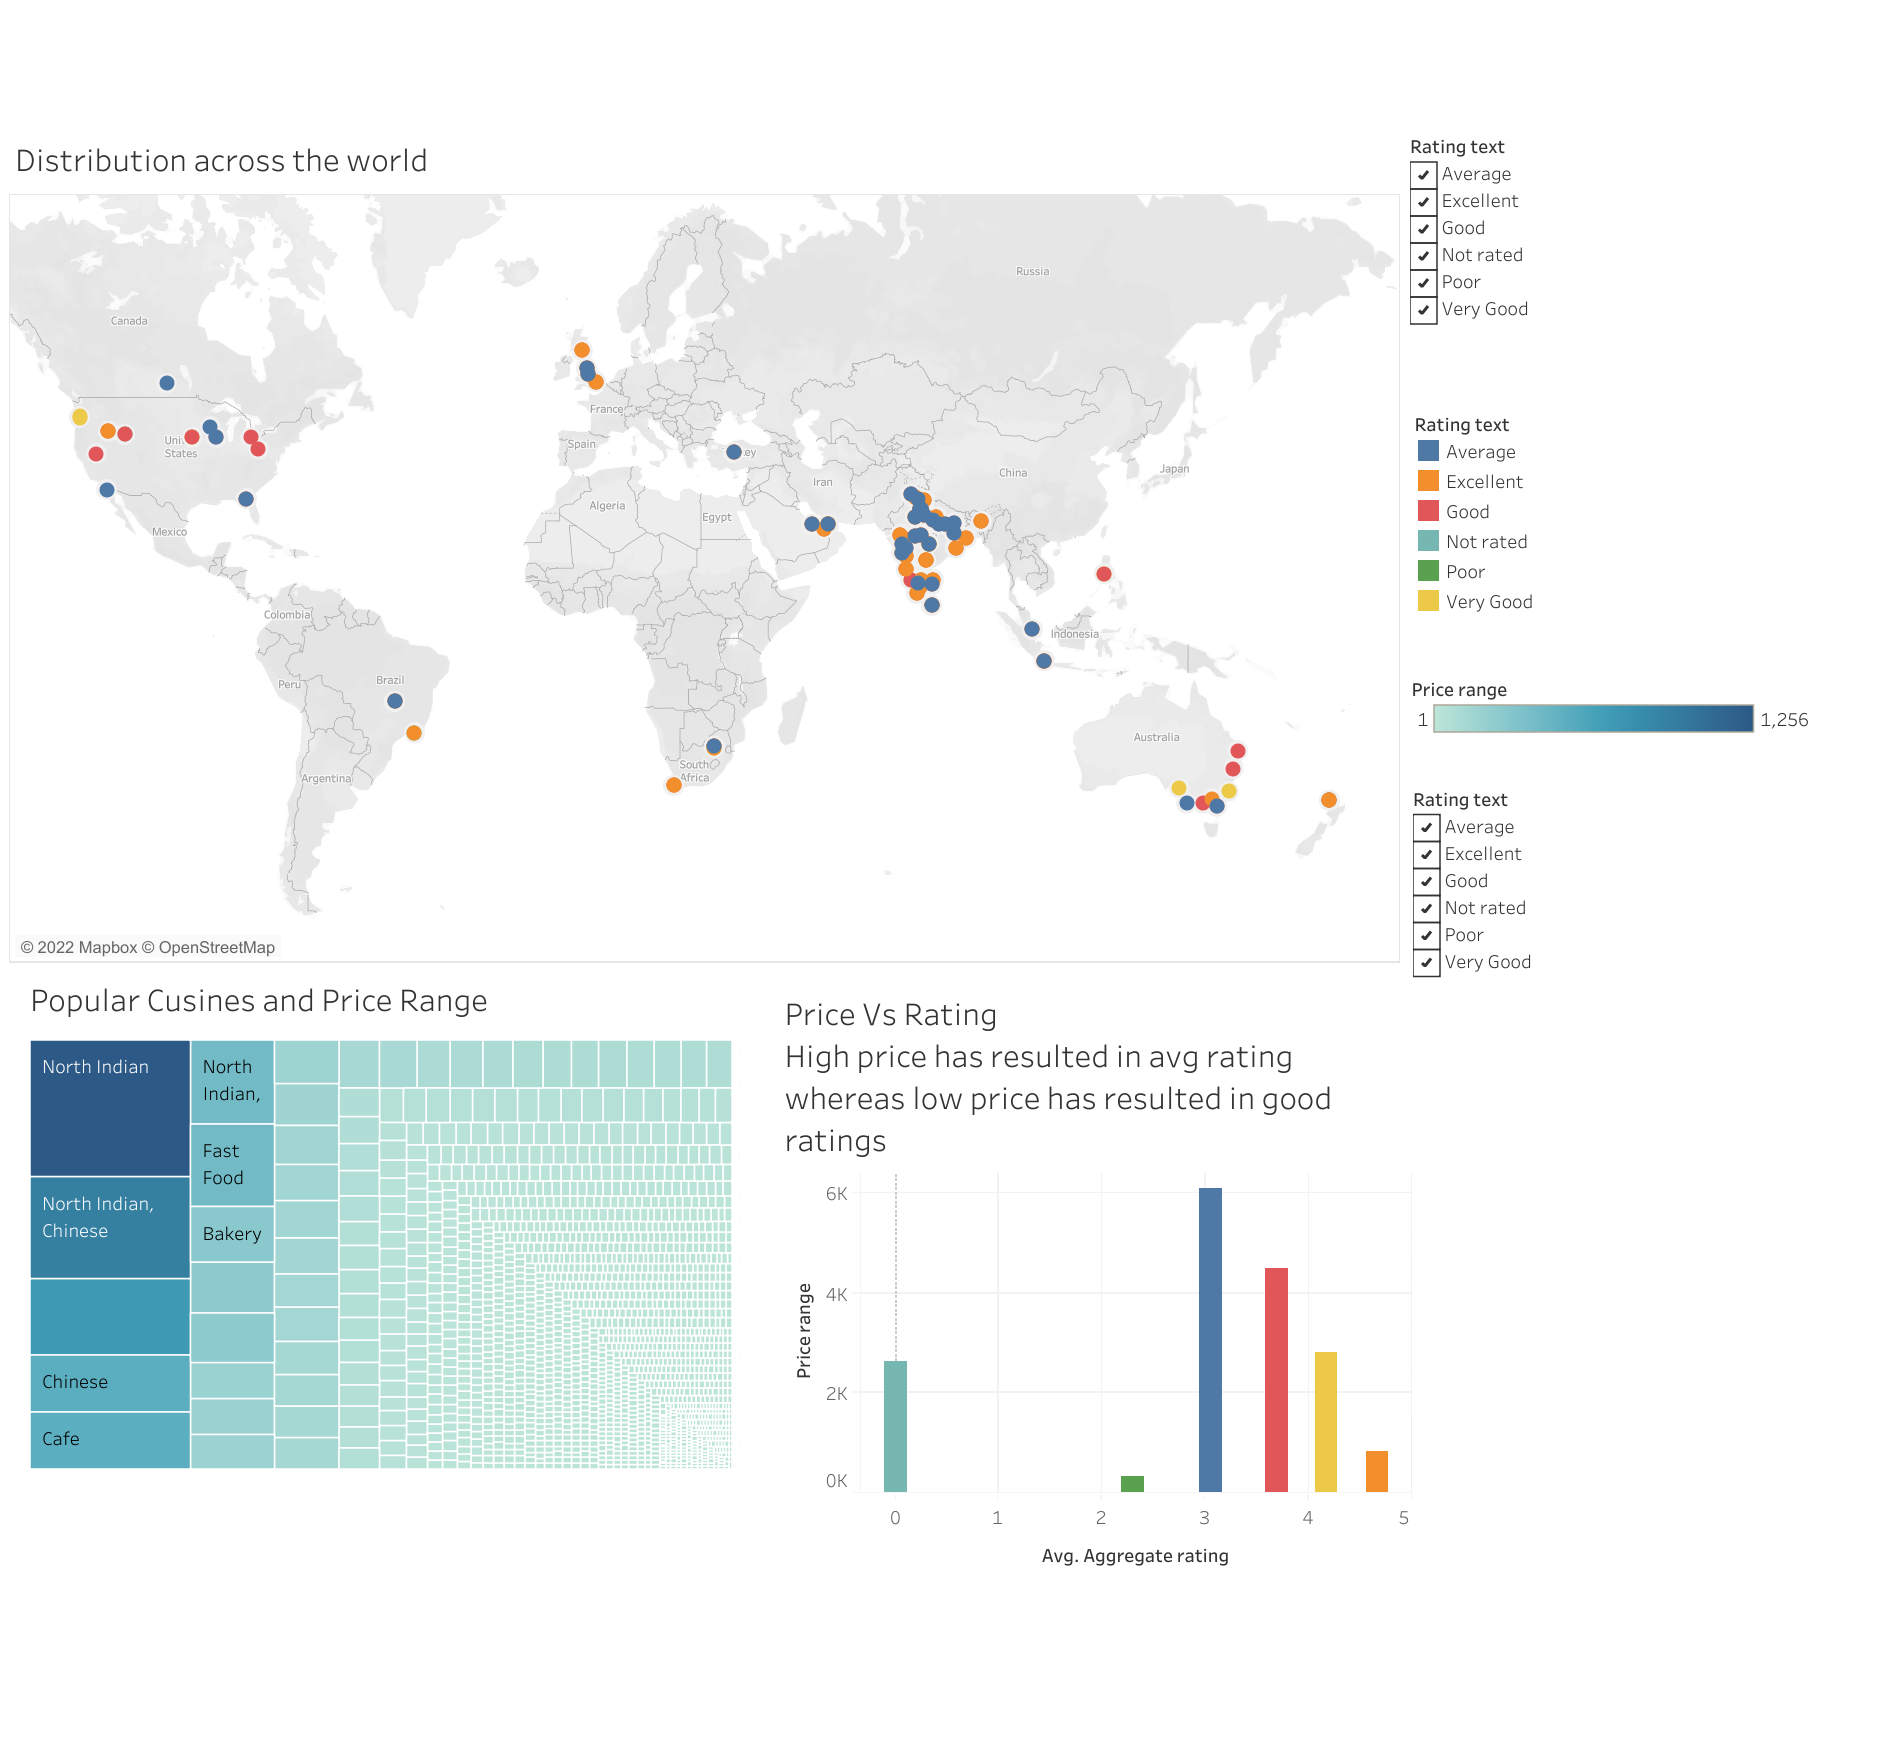

Layout of this report page (visuals, bound fields, positions):
{"tool":"tableau","page":{"name":"Zomato Dashbord","canvas":[1000,1000],"units":"permille","ordinal":0},"visuals":[{"type":"worksheet","title":"Distribution across the world","mark":"Automatic","box":[4.6,74.5,740,478.6]},{"type":"filter","title":"Distribution across the world","param":"[federated.1xuzsg61wc329u0zkj2fw04s2f3u].[none:Rating_text:nk]","box":[749.5,74.6,245.9,154.8]},{"type":"legend","title":"Distribution across the world","param":"[federated.1xuzsg61wc329u0zkj2fw04s2f3u].[none:Rating_text:nk]","box":[751.5,233.3,214.8,148.4]},{"type":"legend","title":"Popular Cusines and Price Range","param":"[federated.1xuzsg61wc329u0zkj2fw04s2f3u].[sum:Price_range:qk]","box":[750.2,384.5,215.5,57.8]},{"type":"filter","title":"Price Vs Rating","param":"[federated.1xuzsg61wc329u0zkj2fw04s2f3u].[none:Rating_text:nk]","box":[750.8,450,246.5,122.4]},{"type":"worksheet","title":"Popular Cusines and Price Range","mark":"Automatic","box":[12.6,556.9,380,415.5]},{"type":"worksheet","title":"Price Vs Rating","mark":"Bar","rows":["Price_range"],"cols":["Aggregate_rating"],"box":[413.8,564.7,336.4,342.2]}]}

Visuals, with their boxes on the dashboard's canvas, which has no fixed pixel size, in thousandths of its width and height (x1, y1, x2, y2). These are canvas units, not pixel positions in the 1880x1739 screenshot, which may show the page scaled, cropped or inside an application window:
"Distribution across the world" worksheet: 5, 74, 745, 553
"Distribution across the world" filter: 750, 75, 995, 229
"Distribution across the world" legend: 752, 233, 966, 382
"Popular Cusines and Price Range" legend: 750, 384, 966, 442
"Price Vs Rating" filter: 751, 450, 997, 572
"Popular Cusines and Price Range" worksheet: 13, 557, 393, 972
"Price Vs Rating" worksheet (Bar marks): 414, 565, 750, 907
